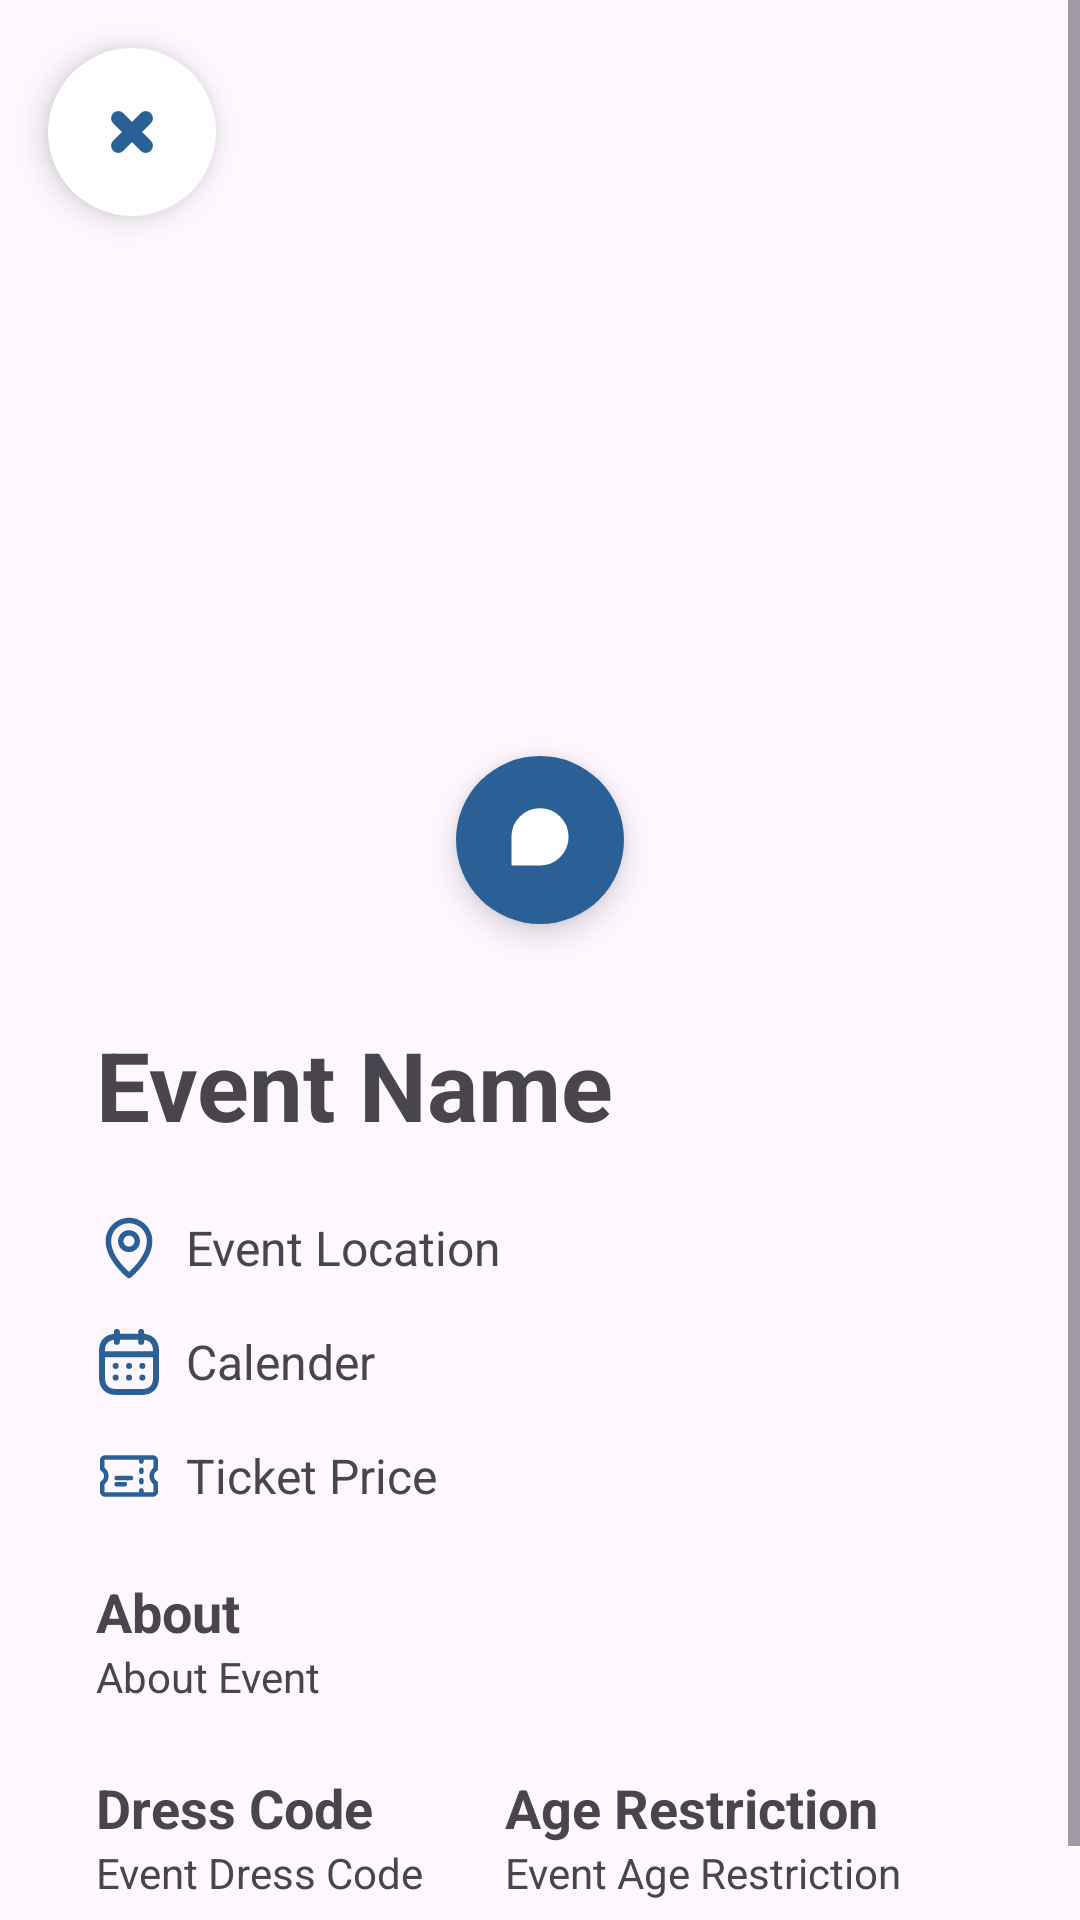

Where to tap for icons on this 1080 × 1920 app screen, as (x,y):
chat: (540,840)
close: (132,132)
